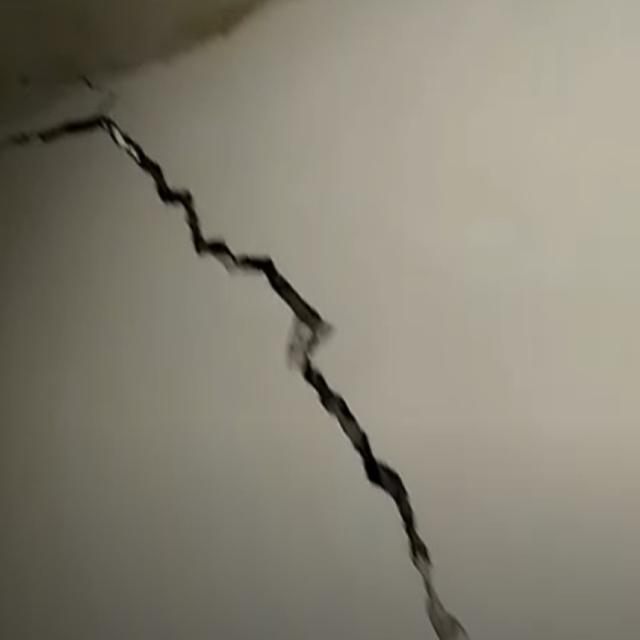Wall_Cracks: (5, 32, 497, 640)
